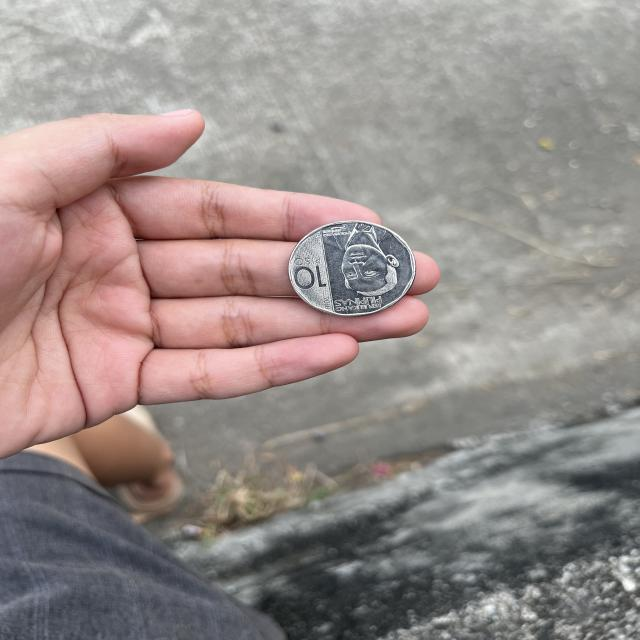10_New_Front: (286, 249, 335, 298)
